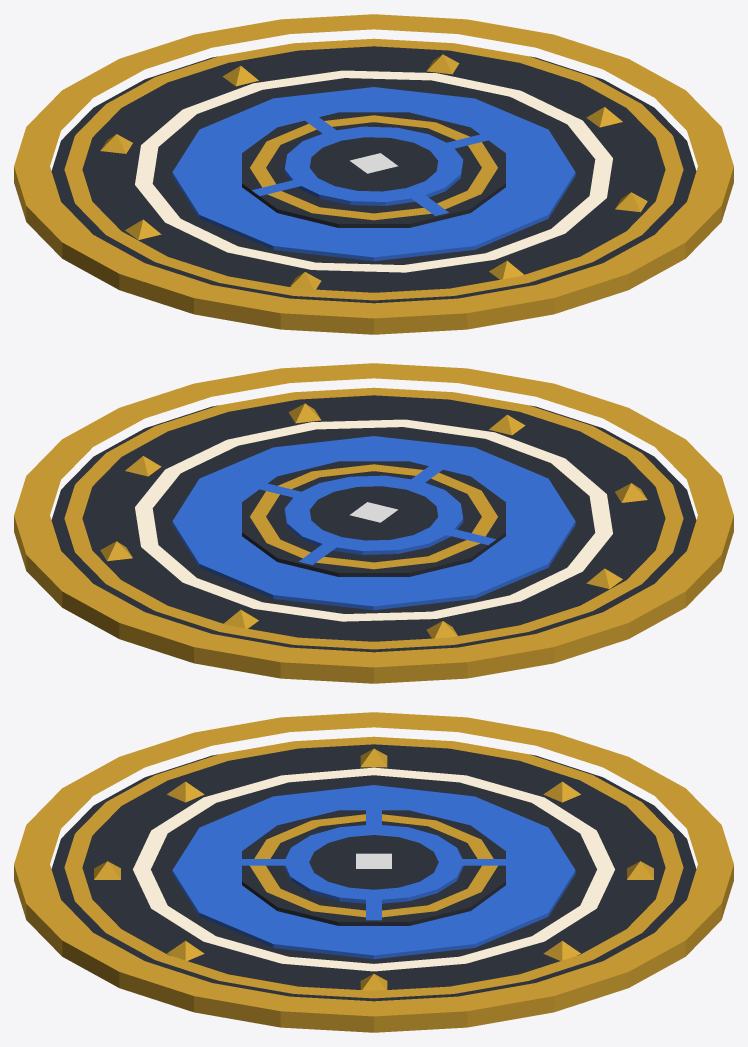
The model's file is rifleman_legend_area.glb.
The picture shows the model from 3 angles, top to bottom: view 1: azimuth 30°, elevation 25°; view 2: azimuth 150°, elevation 25°; view 3: azimuth 270°, elevation 25°; orthographic projection.
Parts seen in each view (by area): view 1: rifleman_legend_area; view 2: rifleman_legend_area; view 3: rifleman_legend_area.
Part boxes in pixels (x1,y1,x2,y2): rifleman_legend_area: (14, 14, 733, 334); rifleman_legend_area: (14, 363, 733, 683); rifleman_legend_area: (14, 712, 733, 1032).
Size of the model in its own units: 2 by 0.06 by 2.
2 materials, 2 textured.
